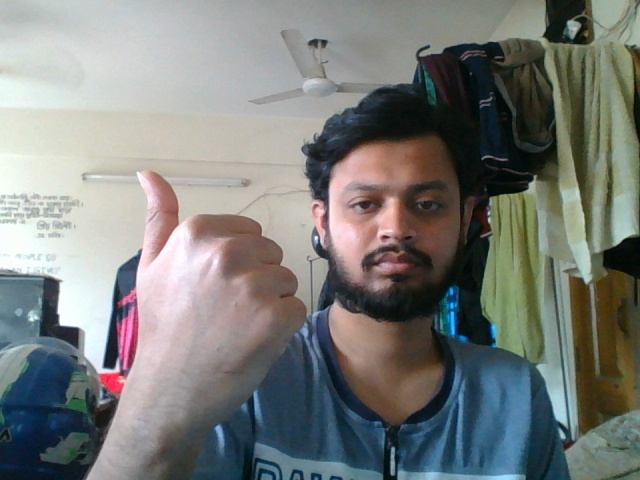do: (112, 165, 315, 460)
